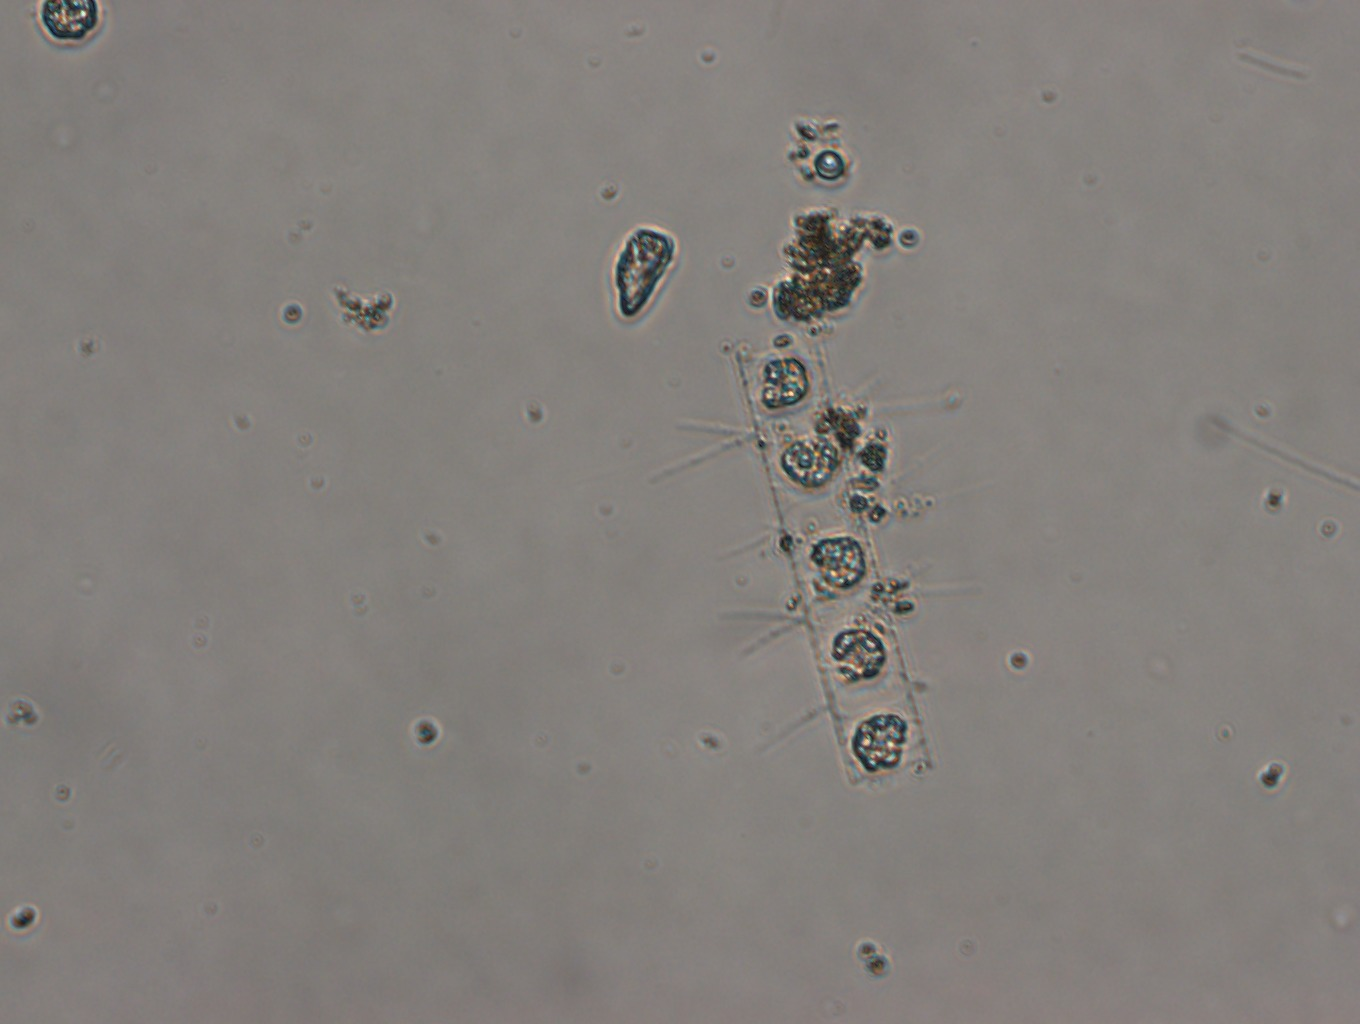chaetoceros: (645, 328, 970, 788)
